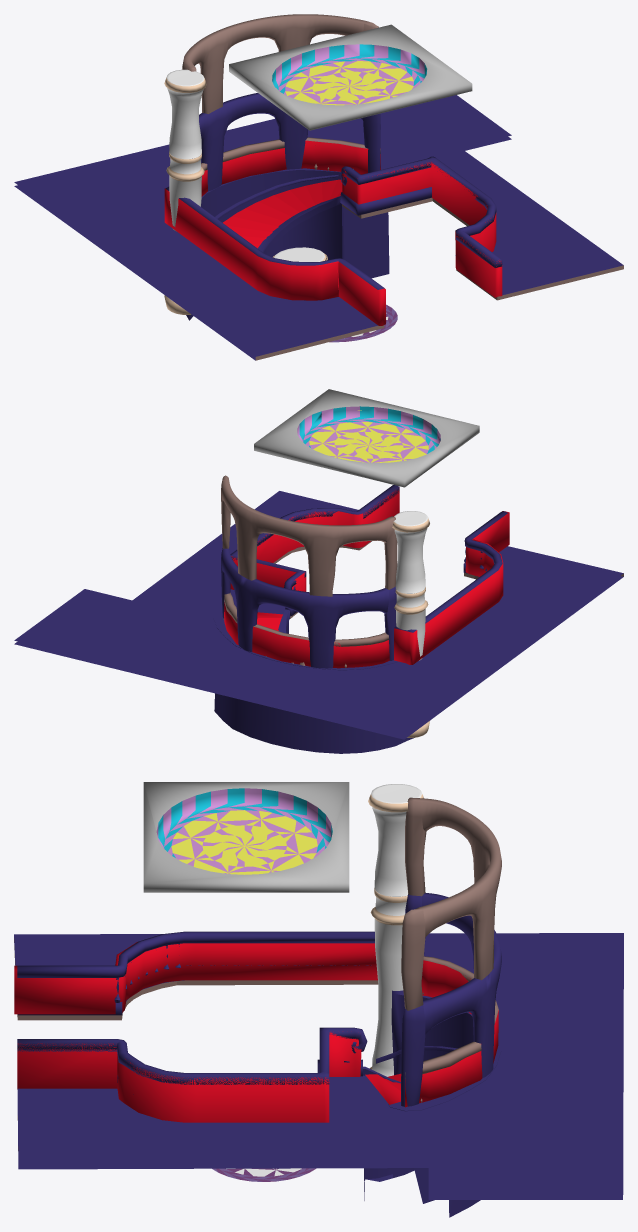
Rendered from hall corregido.fbx.
3 renders of one model, top to bottom at view 1: azimuth 30°, elevation 25°; view 2: azimuth 150°, elevation 25°; view 3: azimuth 270°, elevation 25°, orthographic. The views are drawn at different scales.
Visible parts, largest first — view 1: pisodos_061, Plane_002, Cylinder, Invisible left, Plane, invisible right, pisodos_011.002, polo, barranda D, invisible center, rampa invisible, pisodos_008.001 (+6 smaller); view 2: pisodos_061, pisodos_011.002, polo, Plane, Cylinder, Plane_002, Invisible left, invisible right, invisible center, pisodos_061.001, pisodos_008.001, barranda D (+3 smaller); view 3: pisodos_061, invisible right, Invisible left, Cylinder, Plane, pisodos_011.002, polo, pisodos_006, barranda D, Plane_002, pisodos_008, pisodos_008.001 (+5 smaller).
Part boxes in pixels (x1,y1,x2,y2): pisodos_061: [14, 95, 623, 356]; Plane_002: [186, 168, 389, 320]; Cylinder: [272, 44, 427, 342]; Invisible left: [164, 188, 385, 325]; Plane: [229, 24, 472, 130]; invisible right: [342, 162, 502, 297]; pisodos_011.002: [182, 14, 378, 113]; polo: [192, 93, 380, 191]; barranda D: [340, 156, 502, 267]; invisible center: [201, 140, 380, 196]; rampa invisible: [223, 179, 342, 248]; pisodos_008.001: [164, 69, 206, 159]; pisodos_061: [14, 491, 623, 735]; pisodos_011.002: [221, 475, 397, 596]; polo: [221, 548, 396, 668]; Plane: [254, 389, 479, 487]; Cylinder: [297, 406, 440, 462]; Plane_002: [213, 609, 414, 753]; Invisible left: [394, 511, 509, 664]; invisible right: [230, 488, 399, 591]; invisible center: [224, 602, 389, 668]; pisodos_061.001: [14, 576, 623, 739]; pisodos_008.001: [392, 511, 429, 593]; barranda D: [230, 485, 399, 615]; pisodos_061: [14, 933, 623, 1194]; invisible right: [17, 1032, 361, 1122]; Invisible left: [14, 942, 377, 1014]; Cylinder: [156, 788, 332, 1181]; Plane: [143, 782, 349, 892]; pisodos_011.002: [401, 797, 501, 1010]; polo: [401, 893, 501, 1106]; pisodos_006: [17, 931, 374, 1015]; barranda D: [17, 1027, 367, 1094]; Plane_002: [363, 990, 501, 1217]; pisodos_008: [369, 888, 407, 1076]; pisodos_008.001: [368, 784, 423, 896].
Size of what is drawn, in the model's own units: 3451 by 2042 by 3395.
